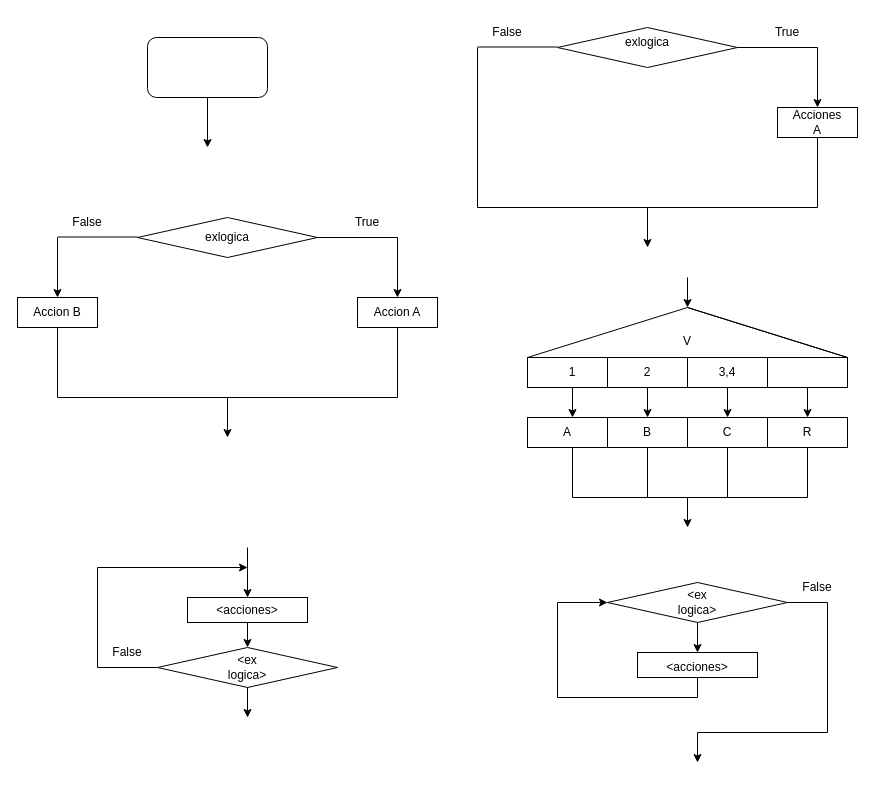
Some shapes in this 875 by 788 pixel diagram are drawn without their labels. Each missing label, with the centre of its shape:
de otro modo: the point at 807,372
INIT: the point at 207,67
